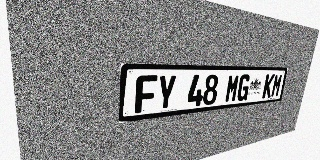4: (187, 75, 205, 107)
8: (202, 74, 220, 105)
F: (135, 75, 158, 113)
G: (236, 74, 251, 101)
K: (262, 74, 275, 98)
M: (224, 74, 240, 103), (270, 74, 283, 97)
Y: (156, 75, 177, 111)
